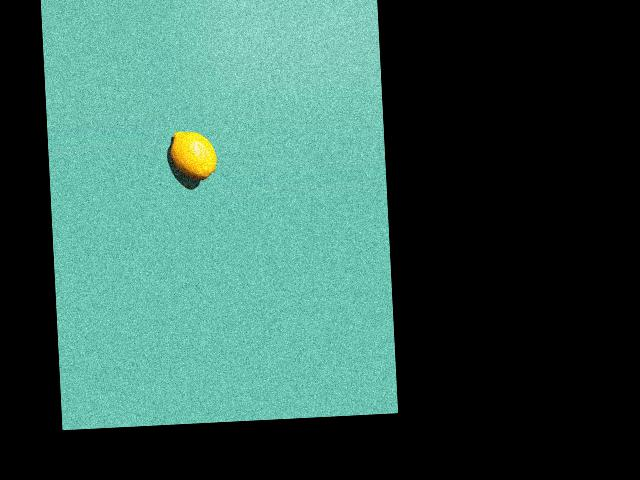lemon: (160, 120, 228, 196)
